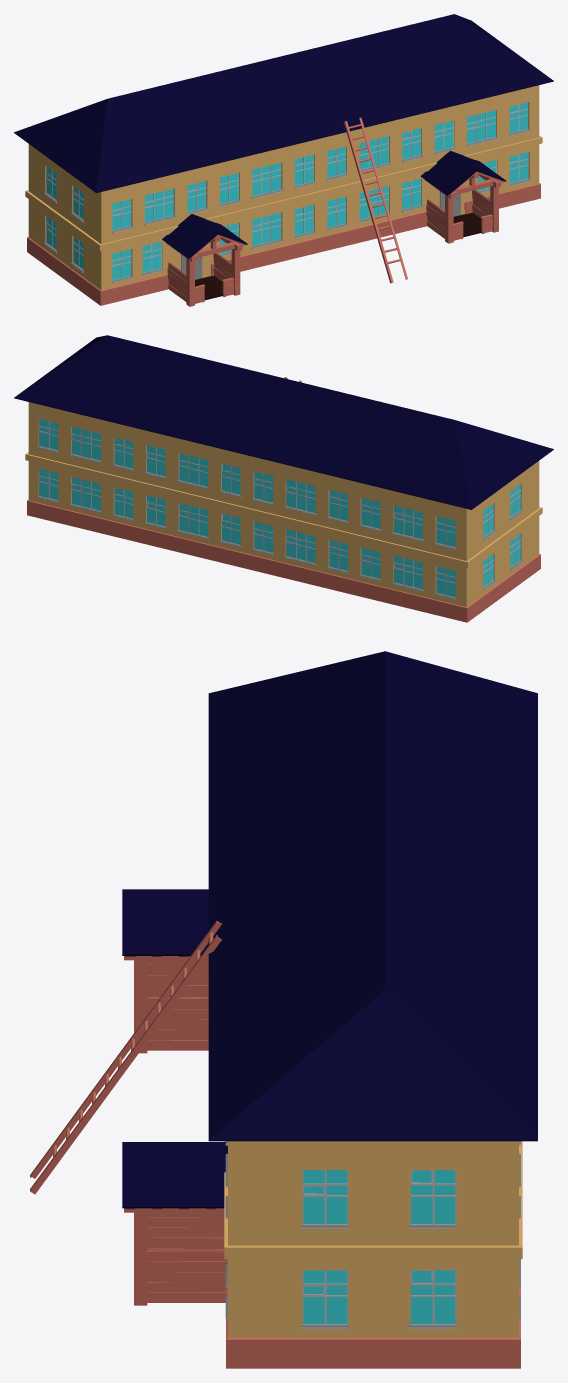
File: Apartment_Building_Grandma.fbx
3 views of the same model, one above another, from view 1: azimuth 30°, elevation 25°; view 2: azimuth 150°, elevation 25°; view 3: azimuth 270°, elevation 25° (orthographic). The views are drawn at different scales.
Visible parts, largest first — view 1: Case_Apartament_Building_1, Windows, Porch_1, Porch_2, Cube.001, Ladder; view 2: Case_Apartament_Building_1, Windows, Cube.001; view 3: Case_Apartament_Building_1, Porch_2, Porch_1, Windows, Ladder, Cube.001.
Boxes of the visible parts, x1,y1,x2,y2 form: Case_Apartament_Building_1: [14, 14, 553, 305]; Windows: [46, 102, 528, 280]; Porch_1: [162, 214, 247, 306]; Porch_2: [421, 151, 505, 243]; Cube.001: [44, 129, 530, 283]; Ladder: [343, 117, 407, 283]; Case_Apartament_Building_1: [14, 335, 553, 622]; Windows: [39, 419, 521, 597]; Cube.001: [37, 446, 522, 599]; Case_Apartament_Building_1: [208, 651, 537, 1368]; Porch_2: [122, 1142, 227, 1305]; Porch_1: [122, 889, 208, 1053]; Windows: [302, 1170, 456, 1324]; Ladder: [30, 921, 221, 1194]; Cube.001: [225, 1141, 520, 1328].
Bounding box in the file's own units: 25.94 × 9.12 × 12.47.
